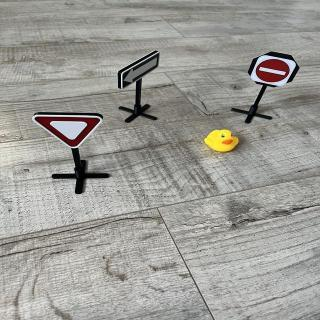duck_regular: (205, 130, 241, 154)
sign_noentry: (249, 54, 298, 90)
sign_oneway_left: (118, 52, 161, 92)
sign_yield: (33, 114, 110, 151)
